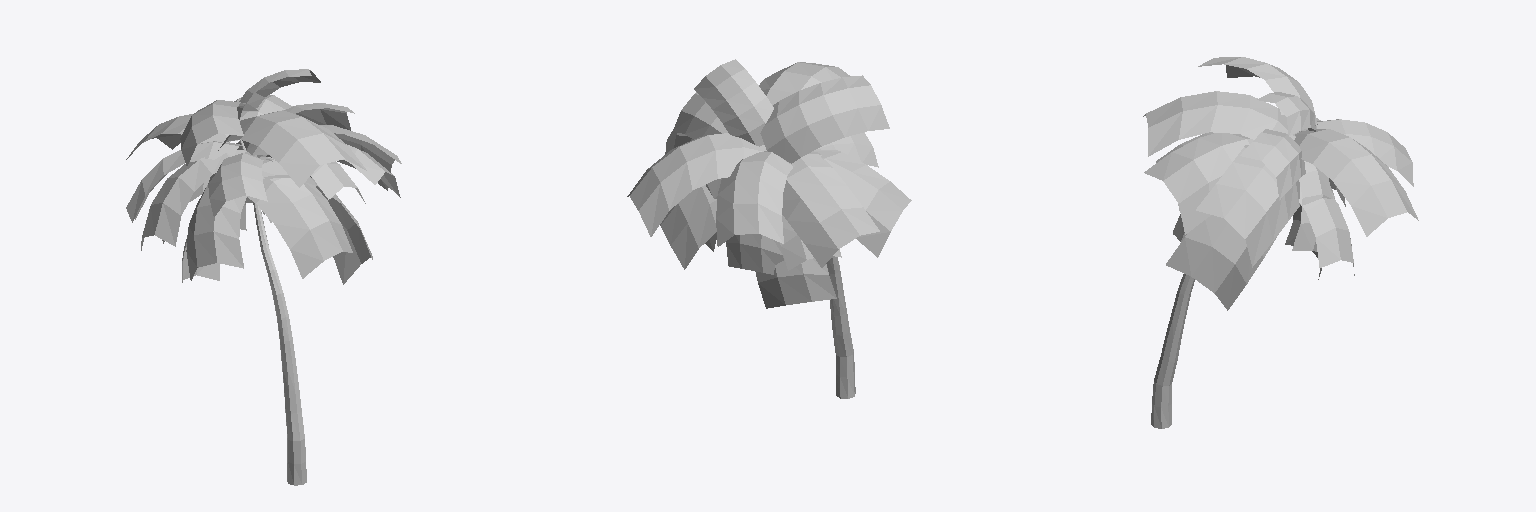
File: tree_1.obj
3 views of the same model, side by side, from view 1: azimuth 30°, elevation 25°; view 2: azimuth 150°, elevation 25°; view 3: azimuth 270°, elevation 25° (orthographic).
Parts seen in each view (by area): view 1: Object01; view 2: Object01; view 3: Object01.
Part boxes in pixels (x1,y1,x2,y2): Object01: (126,69,401,485); Object01: (627,59,911,398); Object01: (1143,57,1418,428).
Size of the model in its own units: 10.49 by 15 by 10.67.